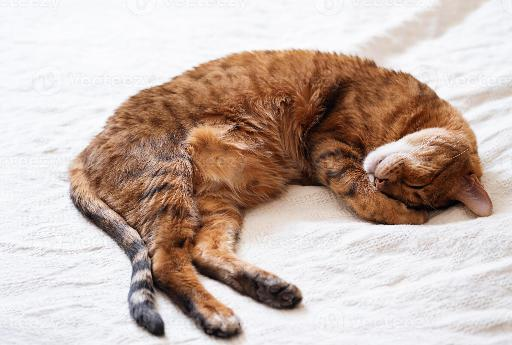cat_sleeping: (69, 50, 492, 338)
